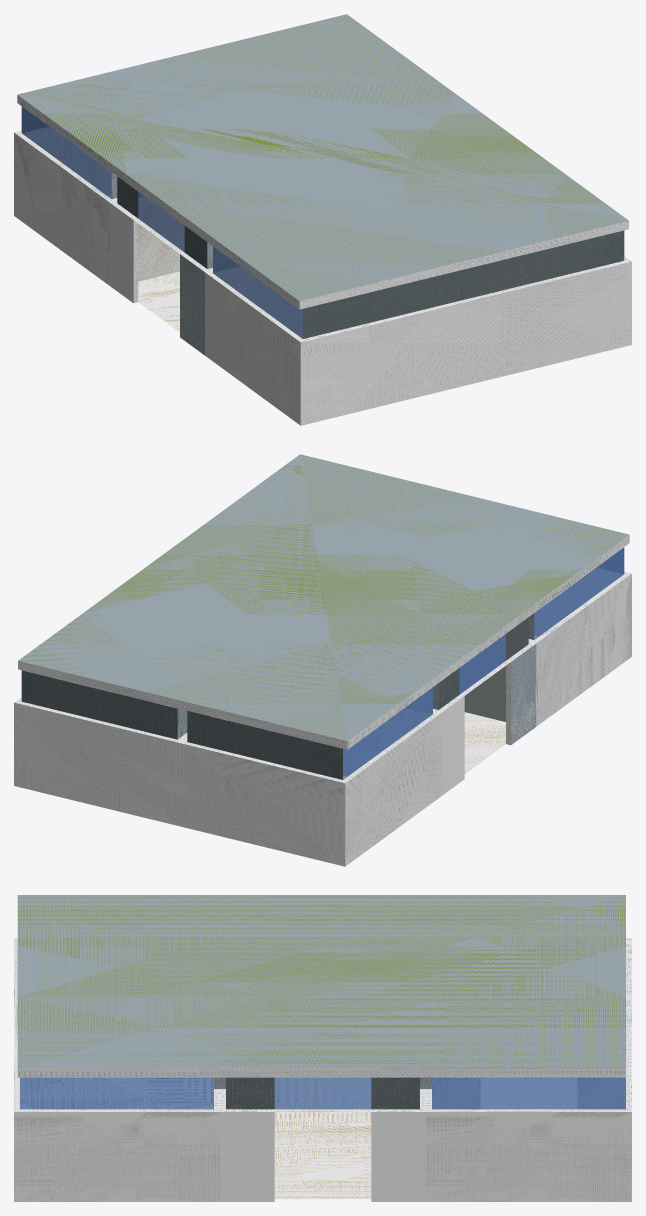
Rendered from New_Building_final1.glb.
3 renders of one model, top to bottom at view 1: azimuth 30°, elevation 25°; view 2: azimuth 150°, elevation 25°; view 3: azimuth 270°, elevation 25°, orthographic. The views are drawn at different scales.
Visible parts, largest first — view 1: Model.1; view 2: Model.1; view 3: Model.1.
Boxes of the visible parts, box(x1,y1,x2,y2) form: Model.1: box(14, 14, 631, 425); Model.1: box(14, 454, 631, 866); Model.1: box(14, 895, 631, 1201).
Size of the model in its own units: 776 by 276 by 1163.
15 materials, 12 textured.
